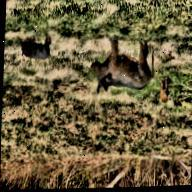boar: (85, 31, 162, 105)
